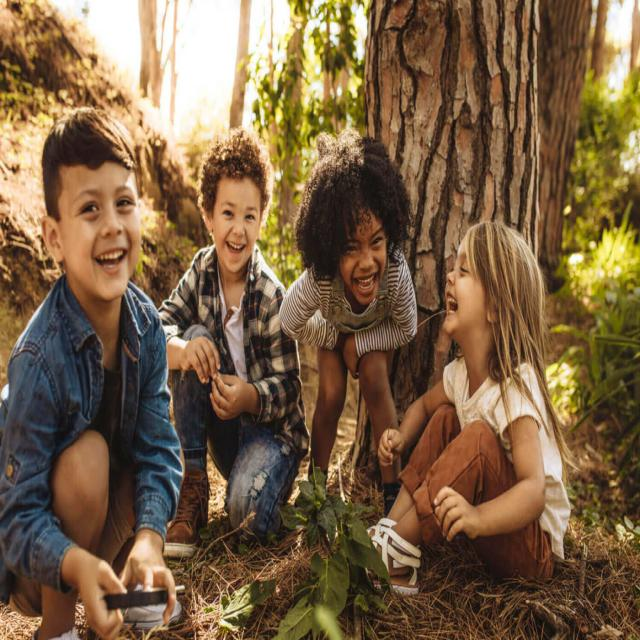child: (0, 108, 184, 640), (358, 219, 573, 593), (155, 130, 305, 560), (279, 130, 419, 524)
